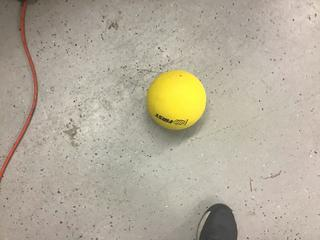power_cell: (139, 62, 206, 134)
